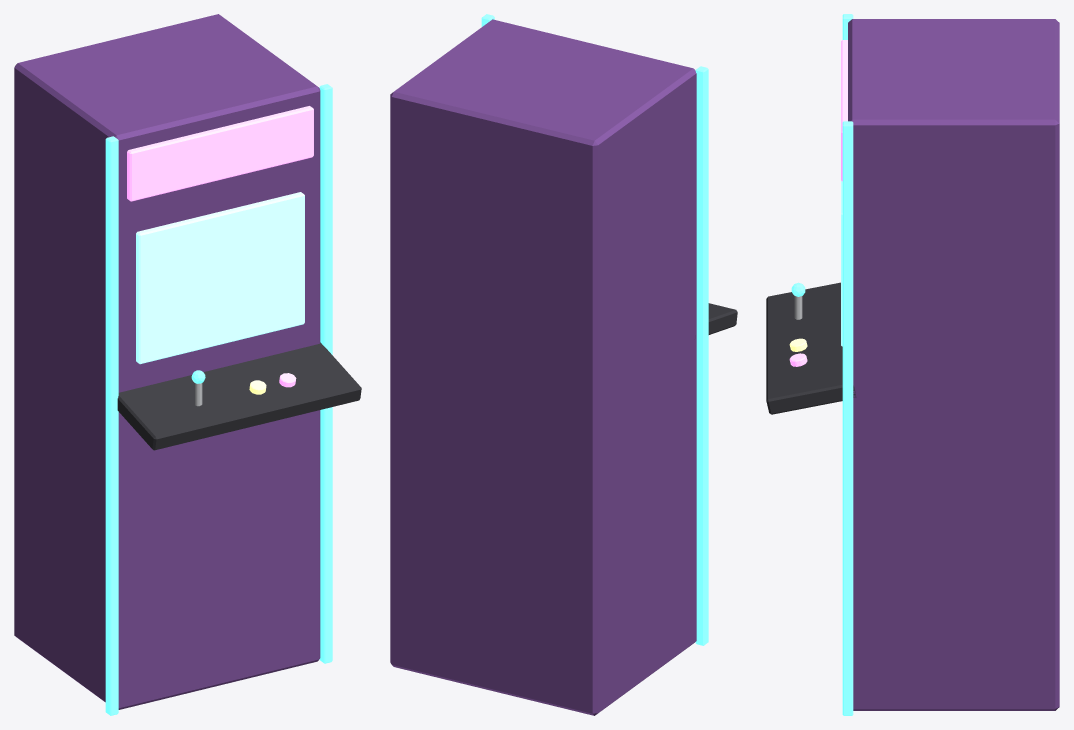
3 renders of one model, left to right at view 1: azimuth 30°, elevation 25°; view 2: azimuth 150°, elevation 25°; view 3: azimuth 270°, elevation 25°, orthographic. The views are drawn at different scales.
Parts seen in each view (by area): view 1: ArcadeCabinet; view 2: ArcadeCabinet; view 3: ArcadeCabinet.
Part boxes in pixels (x1=…): ArcadeCabinet: x1=14, y1=14, x2=361, y2=715; ArcadeCabinet: x1=390, y1=14, x2=737, y2=715; ArcadeCabinet: x1=766, y1=14, x2=1059, y2=715.
Bounding box in the file's own units: 0.75 × 1.85 × 0.8311.
